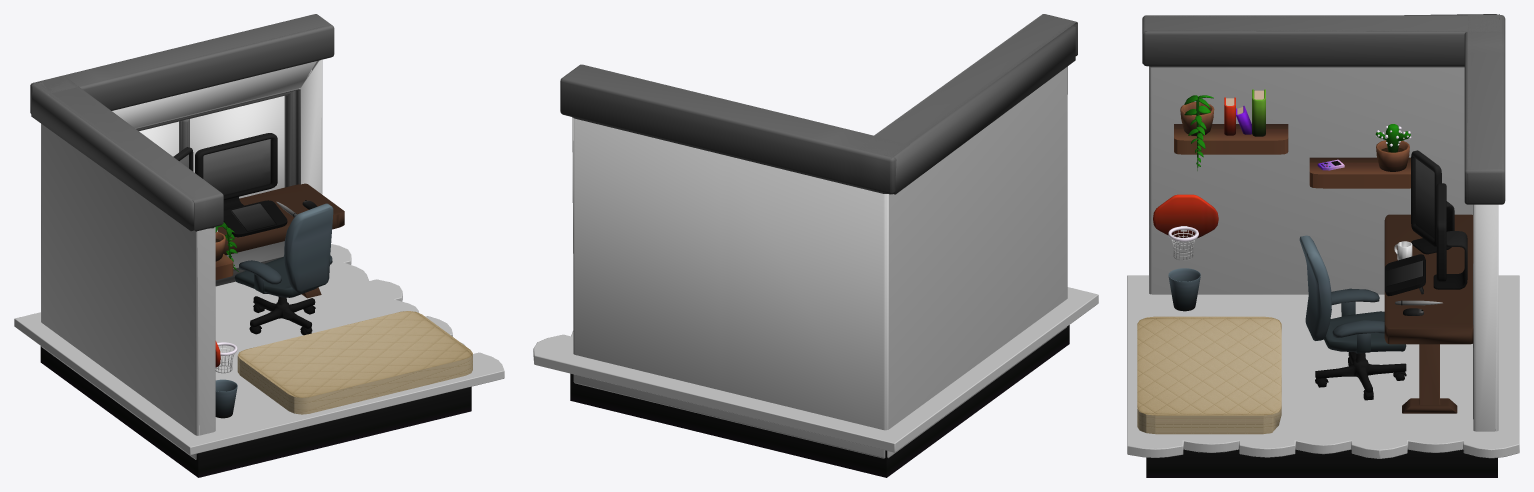
File: GamerSimulator.fbx
The picture shows the model from 3 angles, left to right: view 1: azimuth 30°, elevation 25°; view 2: azimuth 150°, elevation 25°; view 3: azimuth 270°, elevation 25°; orthographic projection. The views are drawn at different scales.
Parts seen in each view (by area): view 1: Plane, Plane.020, Plane.001, Plane.022, Cube.001, Plane.011, Cylinder.014, Plane.009, Plane.002, Plane.021, Cube, Plane.007 (+3 smaller); view 2: Plane.011, Plane, Plane.020, Plane.001, Cube.001; view 3: Plane, Plane.001, Plane.020, Plane.022, Cube, Cube.001, Cylinder.014, Plane.011, Cylinder.009, Plane.003, Plane.007, Plane.006 (+8 smaller).
Boxes of the visible parts, left/top/right/bottom form: Plane: left=41, top=124, right=215, bottom=459; Plane.020: left=30, top=14, right=334, bottom=231; Plane.001: left=14, top=244, right=504, bottom=455; Plane.022: left=237, top=311, right=472, bottom=414; Cube.001: left=40, top=346, right=471, bottom=477; Plane.011: left=41, top=59, right=322, bottom=321; Cylinder.014: left=234, top=203, right=333, bottom=335; Plane.009: left=139, top=96, right=284, bottom=268; Plane.002: left=135, top=88, right=300, bottom=286; Plane.021: left=203, top=139, right=270, bottom=194; Cube: left=218, top=183, right=344, bottom=298; Plane.007: left=173, top=133, right=277, bottom=200; Plane.011: left=572, top=117, right=888, bottom=458; Plane: left=888, top=66, right=1067, bottom=457; Plane.020: left=560, top=14, right=1077, bottom=194; Plane.001: left=533, top=287, right=1098, bottom=452; Cube.001: left=570, top=325, right=1069, bottom=477; Plane: left=1149, top=66, right=1472, bottom=294; Plane.001: left=1127, top=275, right=1519, bottom=458; Plane.020: left=1142, top=14, right=1505, bottom=204; Plane.022: left=1137, top=316, right=1281, bottom=434; Cube: left=1384, top=214, right=1473, bottom=413; Cube.001: left=1146, top=449, right=1497, bottom=477; Cylinder.014: left=1299, top=235, right=1406, bottom=400; Plane.011: left=1473, top=204, right=1498, bottom=431; Cylinder.009: left=1174, top=124, right=1410, bottom=188; Plane.003: left=1153, top=194, right=1218, bottom=238; Plane.007: left=1411, top=150, right=1446, bottom=281; Plane.006: left=1411, top=201, right=1467, bottom=289.
Size of the model in its own units: 237 by 197 by 225.
